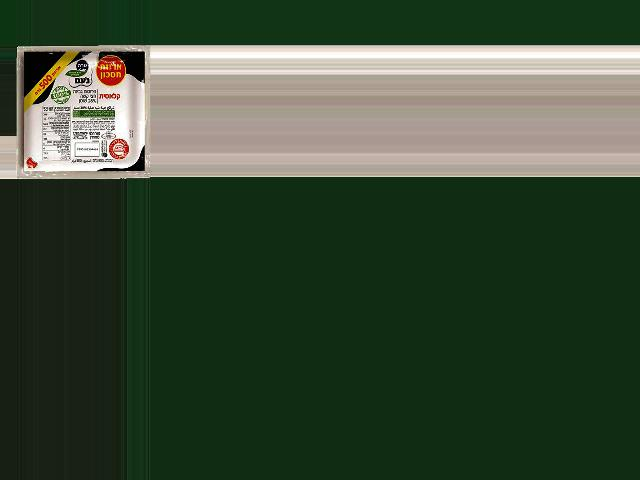cheese: (17, 54, 146, 167)
